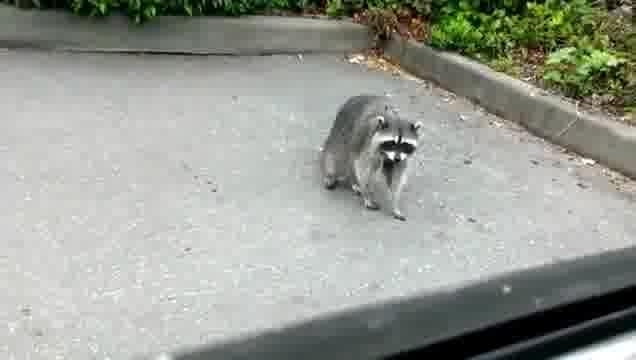raccoon: (322, 93, 423, 220)
